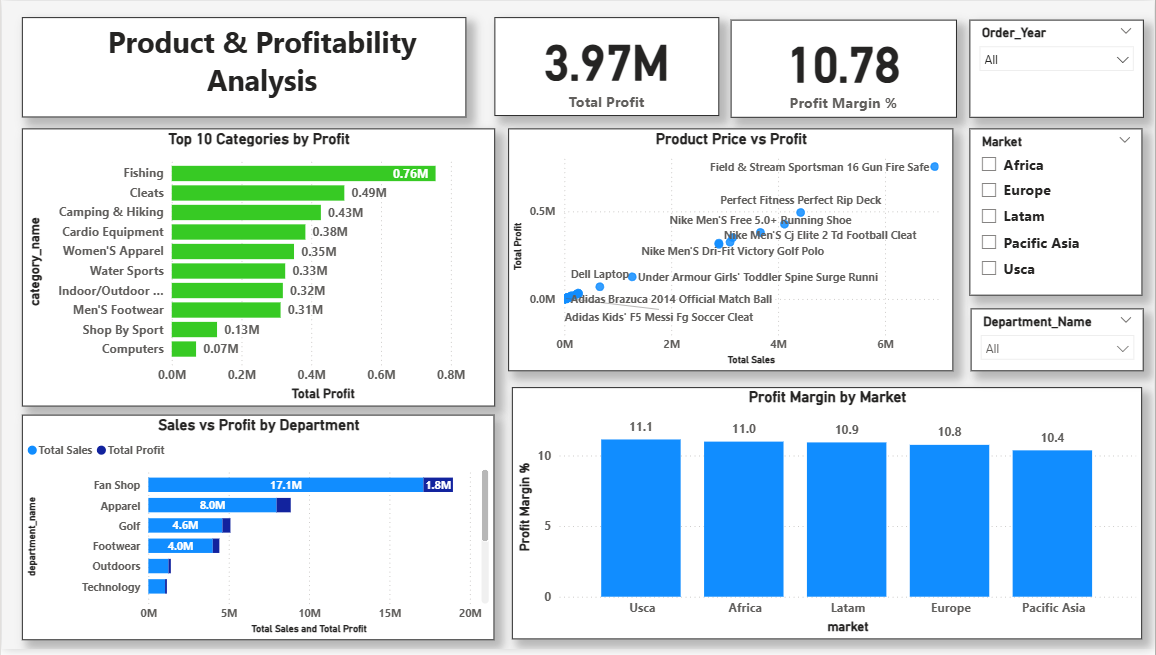

What the dashboard file says about the page in this screenshot:
{"tool":"powerbi","page":{"name":"Product & Profitability","canvas":[1280,720],"ordinal":2},"visuals":[{"type":"textbox","box":[22,17.8,494,111.1],"z":0},{"type":"card","fields":{"Values":["fact_orders.Total Profit"]},"box":[547.5,17.8,249.7,109.8],"z":1000},{"type":"card","fields":{"Values":["fact_orders.Profit Margin %"]},"box":[809.6,20.6,251.1,108.4],"z":2000},{"type":"clusteredBarChart","title":"Top 10 Categories by Profit ","fields":{"Category":["dim_products.category_name"],"Y":["fact_orders.Total Profit"]},"box":[22,141.3,525.6,308.7],"z":3000},{"type":"barChart","title":" Sales vs Profit by Department ","fields":{"Category":["dim_products.department_name"],"Y":["fact_orders.Total Sales","fact_orders.Total Profit"]},"box":[22.2,459.7,525,250],"z":4000},{"type":"scatterChart","title":"Product Price vs Profit","fields":{"X":["fact_orders.Total Sales"],"Y":["fact_orders.Total Profit"],"Category":["dim_products.product_name"]},"box":[562.5,141.7,494.4,269.4],"z":5000},{"type":"clusteredColumnChart","title":" Profit Margin by Market","fields":{"Category":["fact_orders.market"],"Y":["fact_orders.Profit Margin %"]},"box":[566.7,429.5,699.8,279.9],"z":6000},{"type":"slicer","fields":{"Values":["fact_orders.order_year"]},"box":[1074.4,20.6,193.5,108.4],"z":7000},{"type":"slicer","fields":{"Values":["fact_orders.market"]},"box":[1074.4,141.3,192.1,185.2],"z":8000},{"type":"slicer","fields":{"Values":["dim_products.department_name"]},"box":[1075.8,341.7,192.1,70],"z":9000}]}

Visuals, with their boxes in screenshot pixels (x1, y1, x2, y2), scaled from the page's 1280x720 canvas onto the 1156x655 screenshot:
textbox: 20 16 466 117
card - fact_orders.Total Profit: 494 16 720 116
card - fact_orders.Profit Margin %: 731 19 958 117
"Top 10 Categories by Profit " clusteredBarChart: 20 129 495 409
" Sales vs Profit by Department " barChart: 20 418 494 646
"Product Price vs Profit" scatterChart: 508 129 955 374
" Profit Margin by Market" clusteredColumnChart: 512 391 1144 645
slicer - fact_orders.order_year: 970 19 1145 117
slicer - fact_orders.market: 970 129 1144 297
slicer - dim_products.department_name: 972 311 1145 375
